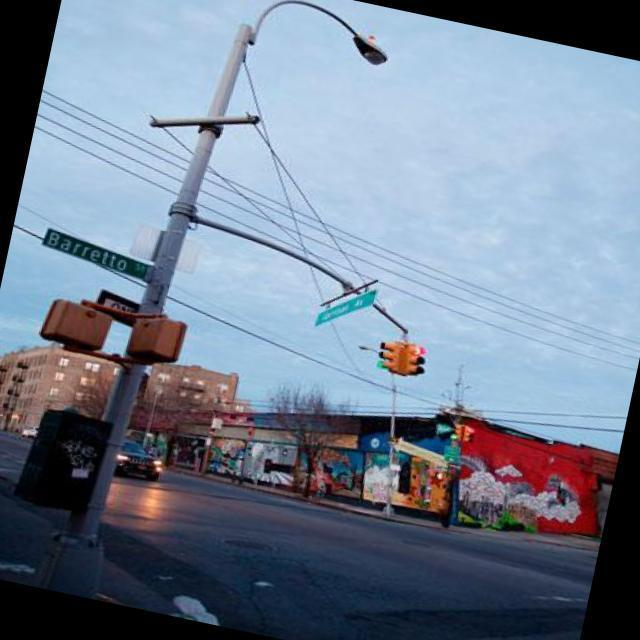off: (203, 0, 404, 98)
